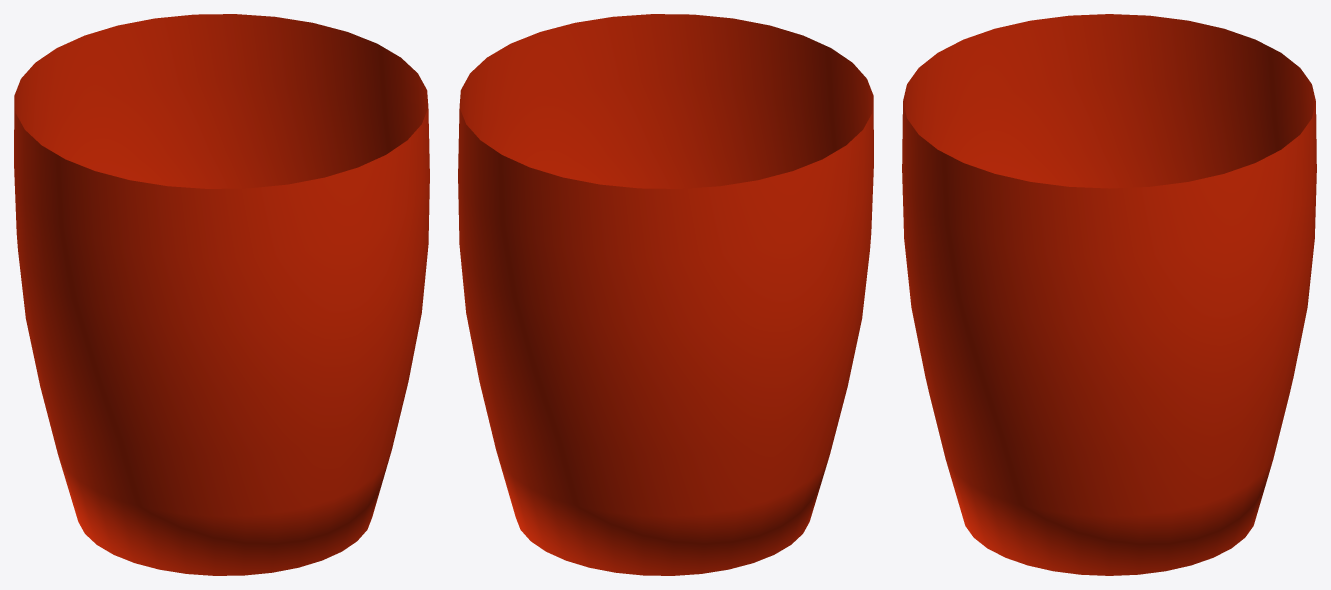
The model's file is cup1.glb.
The picture shows the model from 3 angles, left to right: view 1: azimuth 30°, elevation 25°; view 2: azimuth 150°, elevation 25°; view 3: azimuth 270°, elevation 25°; orthographic projection.
Visible parts, largest first — view 1: Cylinder; view 2: Cylinder; view 3: Cylinder.
Boxes of the visible parts, left/top/right/bottom form: Cylinder: left=14, top=14, right=429, bottom=575; Cylinder: left=458, top=14, right=873, bottom=575; Cylinder: left=902, top=14, right=1316, bottom=575.
Bounding box in the file's own units: 5.23 × 5.72 × 5.23.
